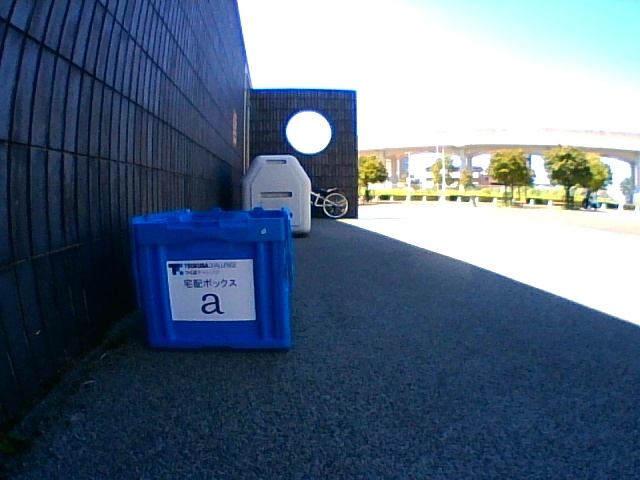blue_box: (129, 207, 293, 348)
tag_a: (173, 262, 253, 320)
